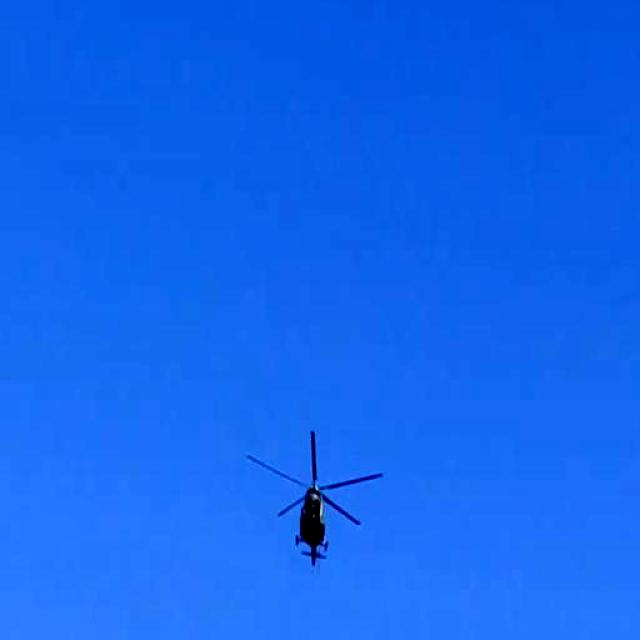drone: (248, 410, 381, 571)
